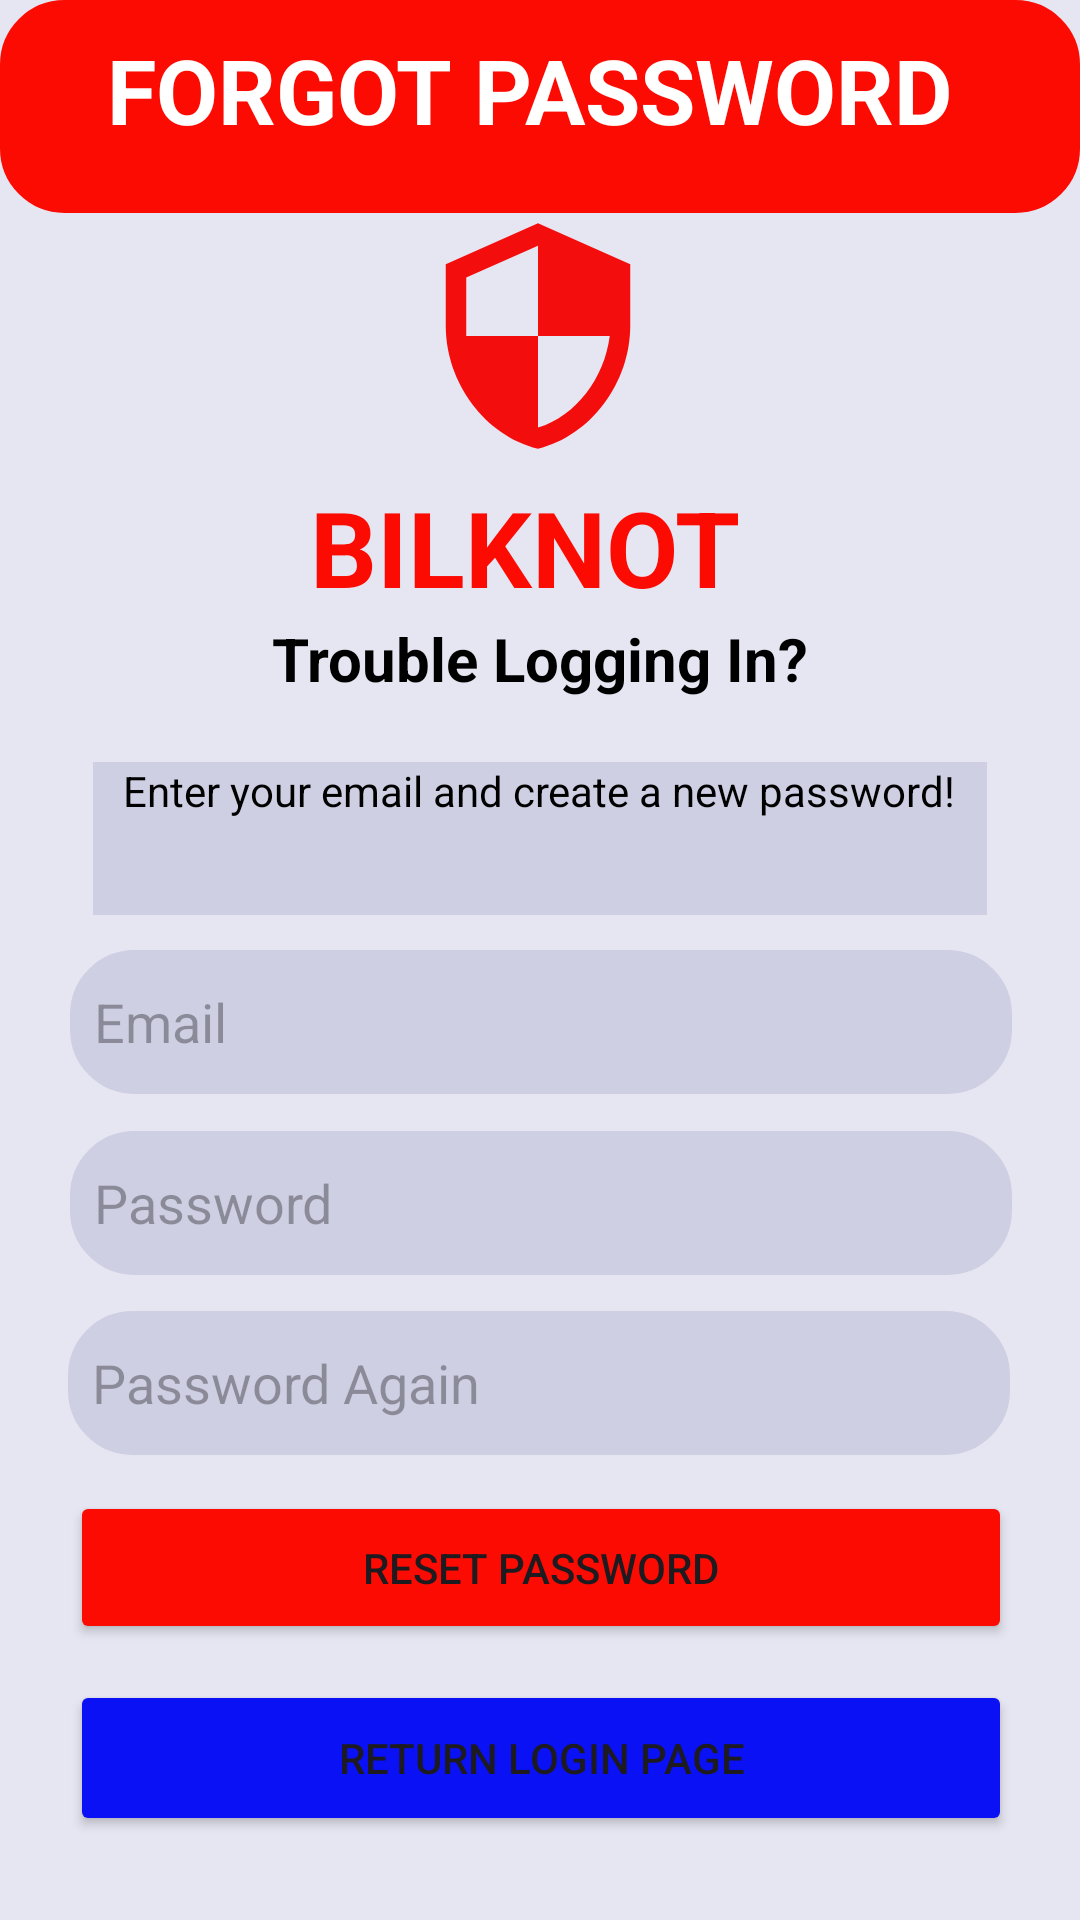

Icons on this 1080px×1920px Android screen, each with its box as (x1, y1, x2, y2):
security: (445, 223, 631, 449)
